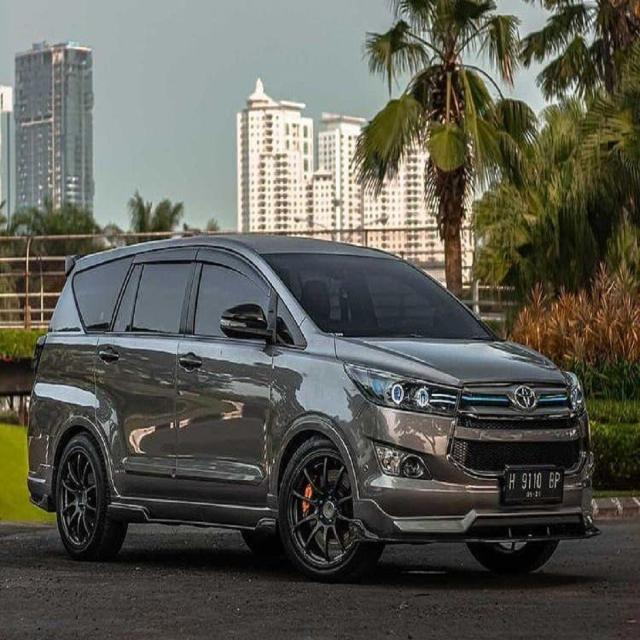light_vehicle: (24, 234, 600, 581)
